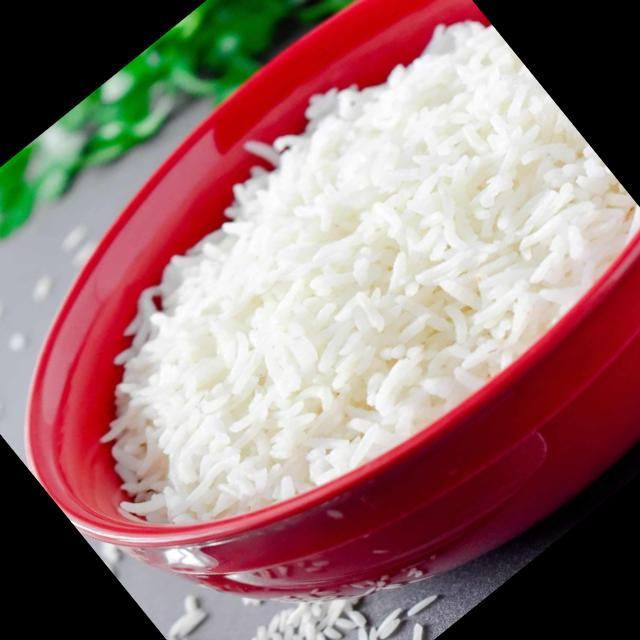rice: (109, 22, 640, 521)
